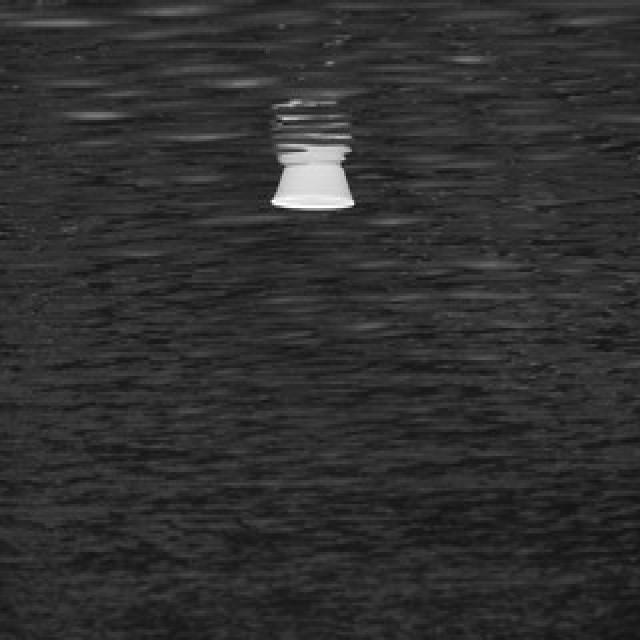Plastic: (267, 158, 357, 215)
